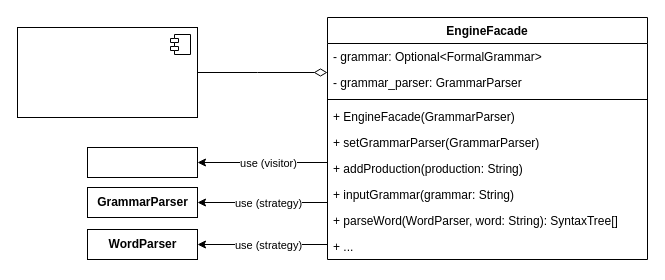
Some shapes in this 665 by 280 pixel diagram are drawn without their labels. Each missing label, with the centre of its shape:
"Model" goes at point 107,72.
"Visualisable" goes at point 142,162.
